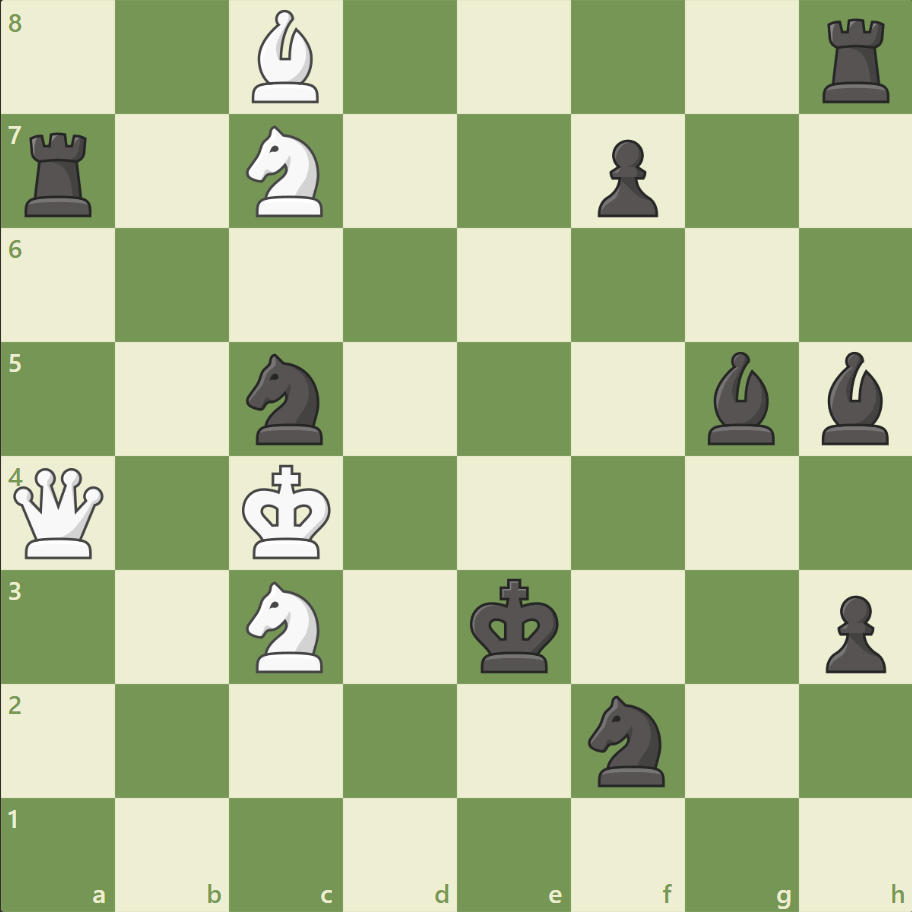B: (244, 6, 328, 109)
K: (238, 458, 338, 566)
N: (238, 121, 335, 223), (238, 575, 335, 677)
Q: (10, 463, 109, 562)
b: (698, 347, 782, 449), (812, 347, 896, 449)
k: (465, 571, 565, 679)
n: (579, 688, 676, 791), (238, 348, 335, 450)
p: (588, 132, 662, 223), (815, 586, 889, 677)
r: (814, 12, 897, 109), (19, 125, 102, 222)
